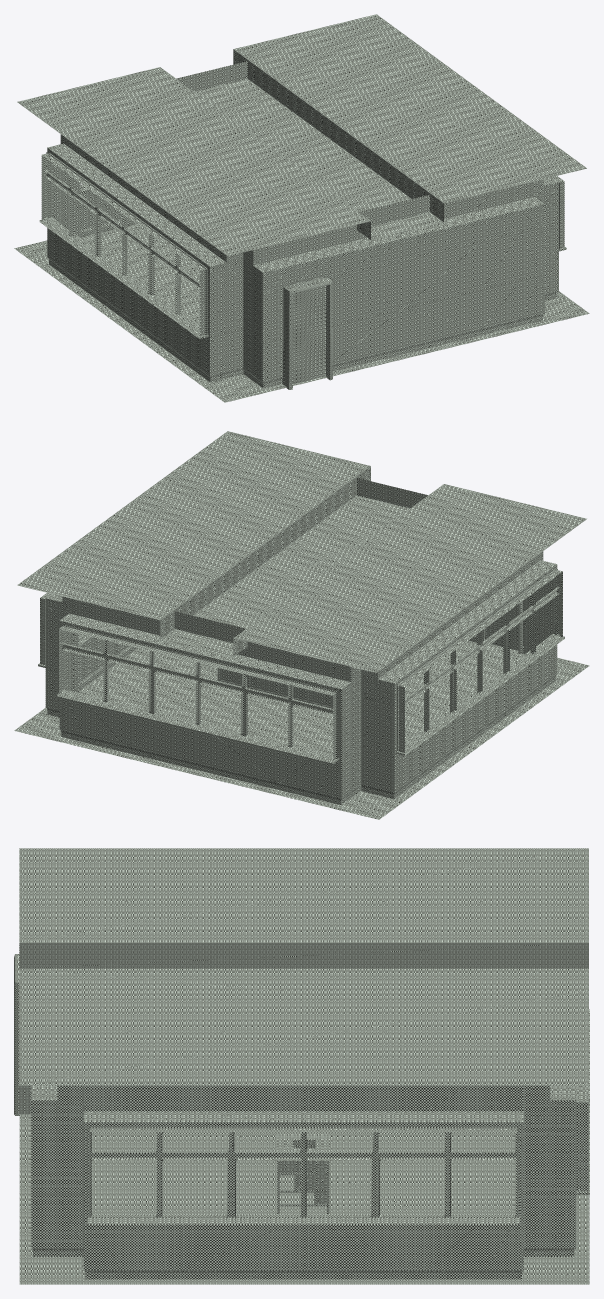
The model's file is VR_Test_Room_v4.FBX.
3 views of the same model, one above another, from view 1: azimuth 30°, elevation 25°; view 2: azimuth 150°, elevation 25°; view 3: azimuth 270°, elevation 25° (orthographic). The views are drawn at different scales.
Parts seen in each view (by area): view 1: Ceiling_001, Wall_002, Wall_001, Floor_10x10m, Window_Frame_001, Door_001, Wall_003, Wall_004, Doorframe_001; view 2: Ceiling_001, Wall_003, Floor_10x10m, Wall_001, Window_Frame_003, Window_Frame_001, Wall_004, Work_Bench_Main_001, Wall_002, Wall_Inset_003, Door_001; view 3: Ceiling_001, Wall_004, Floor_10x10m, Window_Frame_004, Wall_003, Wall_002, Work_Bench_Main_001, Wall_Inset_004, Doorframe_001, Wall_Inset_003.
Part boxes in pixels (x1,y1,x2,y2): Ceiling_001: (17, 14, 586, 255); Wall_002: (243, 181, 544, 388); Wall_001: (41, 136, 243, 382); Floor_10x10m: (14, 224, 589, 402); Window_Frame_001: (39, 152, 208, 338); Door_001: (293, 286, 325, 384); Wall_003: (60, 61, 247, 237); Wall_004: (535, 177, 564, 300); Doorframe_001: (282, 276, 332, 389); Ceiling_001: (17, 431, 586, 672); Wall_003: (59, 598, 360, 804); Floor_10x10m: (14, 641, 589, 819); Wall_001: (360, 553, 562, 798); Window_Frame_003: (57, 625, 339, 763); Window_Frame_001: (396, 569, 564, 755); Wall_004: (40, 593, 137, 717); Work_Bench_Main_001: (217, 668, 332, 708); Wall_002: (357, 478, 543, 654); Wall_Inset_003: (61, 625, 336, 694); Door_001: (485, 604, 518, 650); Ceiling_001: (19, 848, 588, 1085); Wall_004: (83, 1085, 523, 1279); Floor_10x10m: (19, 1114, 589, 1284); Window_Frame_004: (87, 1127, 519, 1224); Wall_003: (523, 1085, 588, 1256); Wall_002: (31, 1085, 83, 1256); Work_Bench_Main_001: (276, 1133, 329, 1213); Wall_Inset_004: (90, 1127, 517, 1132); Doorframe_001: (14, 954, 31, 1115); Wall_Inset_003: (576, 1102, 588, 1191).
Size of the model in its own units: 10.05 by 3.86 by 10.11.
1 material, 1 textured.
